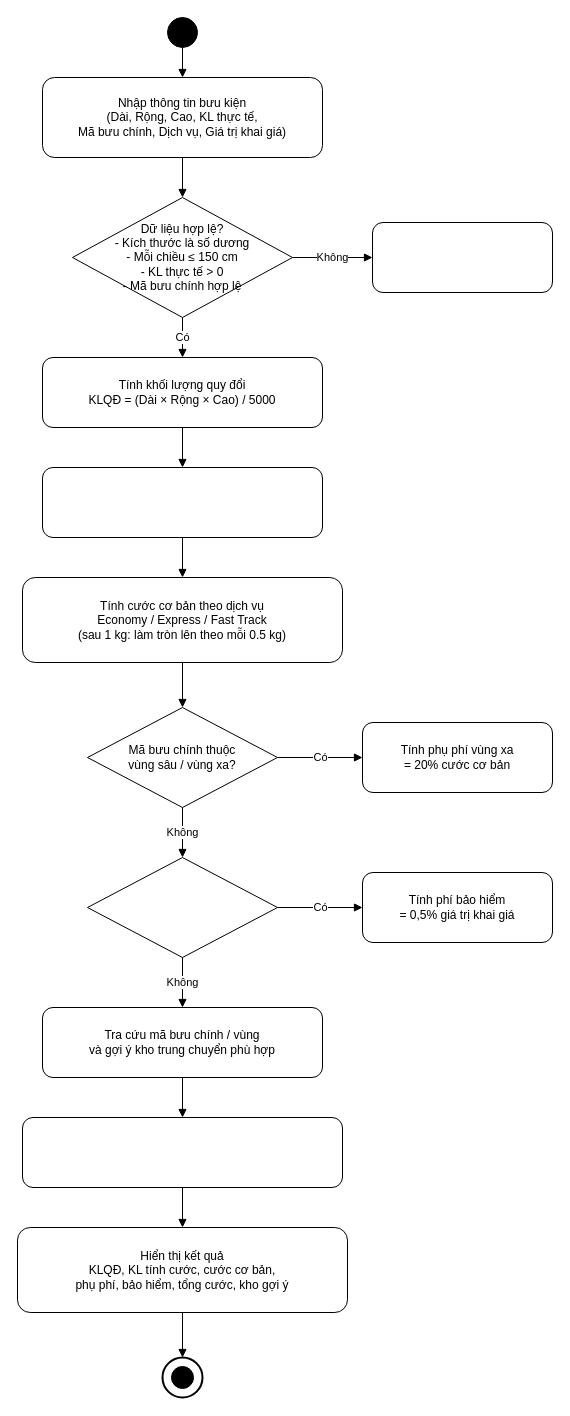
Image size: 570x1416. Some labels were removed from this diagram. Here are the shapes that lost their labels. From the top down, the centre of each, then its label:
the point at 462,257: Thông báo lỗi dữ liệu và yêu cầu nhập lại
the point at 182,502: Xác định khối lượng tính cước KLTC = Max(KL thực tế, KLQĐ)
the point at 182,907: Giá trị khai giá > 5.000.000đ?
the point at 182,1152: Tính tổng cước = Cước cơ bản + Phụ phí vùng xa + Phí bảo hiểm
